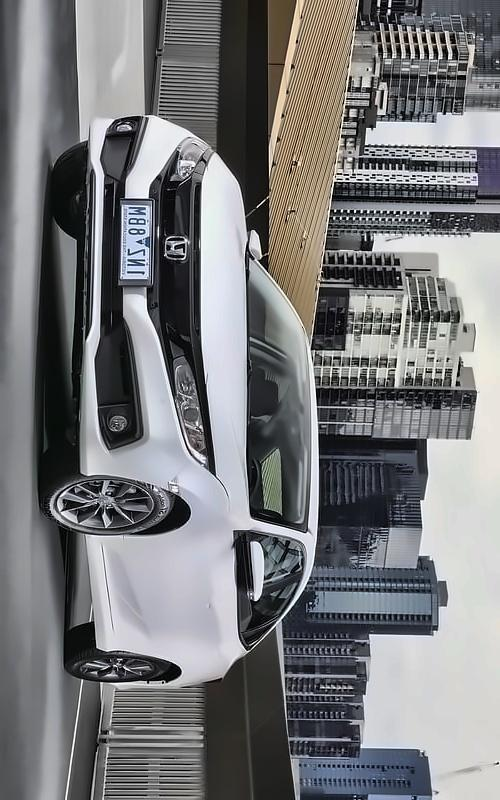Car hood: (195, 148, 259, 539)
Fender - -F-L-: (75, 456, 255, 559)
Front bumper: (70, 108, 200, 499)
Headlight - -L-: (161, 334, 221, 481)
Headlight - -R-: (159, 128, 219, 191)
Passenger-s door - -F-L-: (56, 518, 324, 625)
Passenger-s door - -R-L-: (71, 587, 327, 665)
Side bumper - -L-: (63, 515, 147, 679)
Side mirror - -L-: (235, 528, 267, 613)
Side mirror - -R-: (245, 224, 267, 269)
